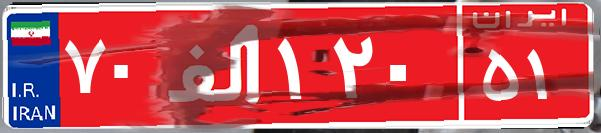0: (385, 28, 445, 110), (110, 28, 158, 105)
1: (273, 28, 330, 110), (525, 38, 570, 115)
2: (330, 28, 385, 110)
5: (475, 38, 525, 113)
7: (57, 26, 110, 107)
الف: (158, 15, 273, 115)
